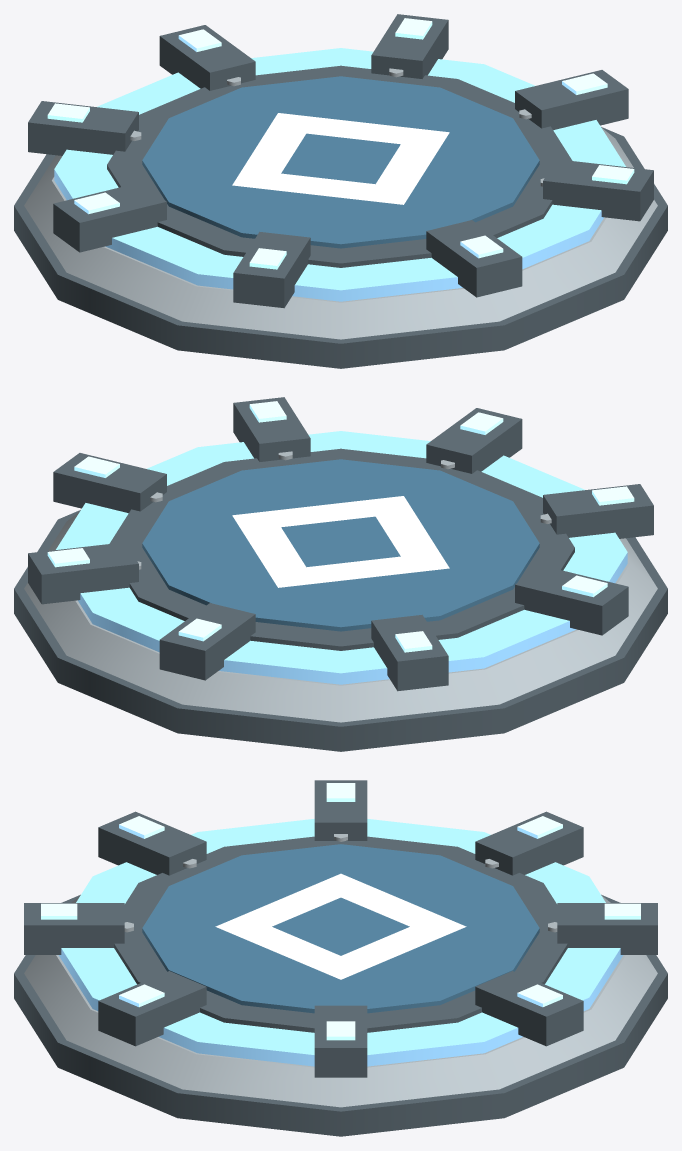
Rendered from base-blue.glb.
3 views of the same model, one above another, from view 1: azimuth 30°, elevation 25°; view 2: azimuth 150°, elevation 25°; view 3: azimuth 270°, elevation 25° (orthographic).
Visible parts, largest first — view 1: static:objective-carbon, static:objective-blue-inset, static:objective-steel, static:objective-blue, static:objective-ivory, static:objective-blue-light; view 2: static:objective-carbon, static:objective-blue-inset, static:objective-steel, static:objective-blue, static:objective-ivory, static:objective-blue-light; view 3: static:objective-carbon, static:objective-blue-inset, static:objective-steel, static:objective-blue, static:objective-ivory, static:objective-blue-light.
Part boxes in pixels (x1,y1,x2,y2): static:objective-carbon: (14, 14, 667, 368); static:objective-blue-inset: (142, 76, 539, 248); static:objective-steel: (24, 68, 657, 339); static:objective-blue: (54, 48, 625, 301); static:objective-ivory: (232, 113, 449, 204); static:objective-blue-light: (47, 18, 634, 269); static:objective-carbon: (14, 397, 667, 751); static:objective-blue-inset: (142, 459, 539, 631); static:objective-steel: (24, 451, 657, 722); static:objective-blue: (56, 431, 627, 684); static:objective-ivory: (232, 496, 449, 587); static:objective-blue-light: (47, 401, 634, 652); static:objective-carbon: (14, 780, 667, 1136); static:objective-blue-inset: (142, 844, 539, 1013); static:objective-steel: (24, 834, 657, 1107); static:objective-blue: (58, 819, 623, 1066); static:objective-ivory: (215, 873, 466, 979); static:objective-blue-light: (41, 783, 640, 1040).
Size of the model in its own units: 1.3 by 0.1945 by 1.3.
